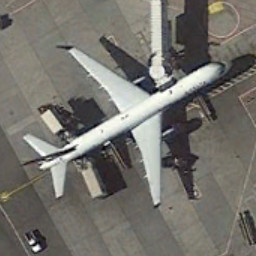Airplane: (17, 40, 238, 219)
